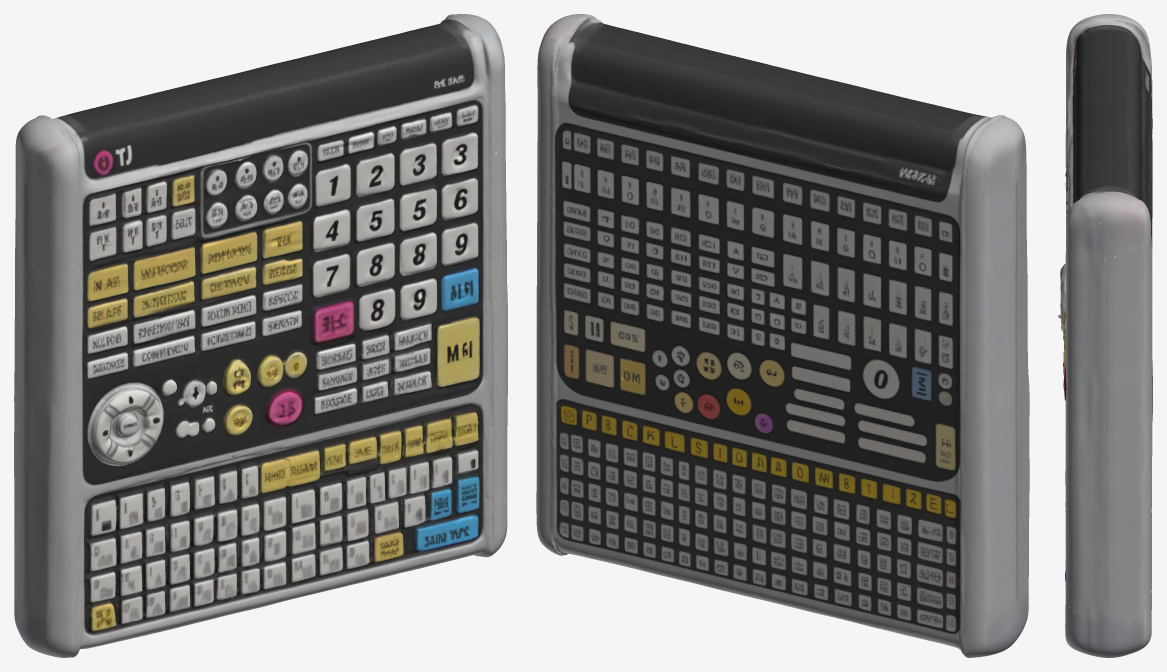
The model's file is 노래방 컨드롤러.glb.
3 renders of one model, left to right at view 1: azimuth 30°, elevation 25°; view 2: azimuth 150°, elevation 25°; view 3: azimuth 270°, elevation 25°, orthographic. The views are drawn at different scales.
Bounding box in the file's own units: 1.86 × 2 × 0.3736.
1 material, 1 textured.
